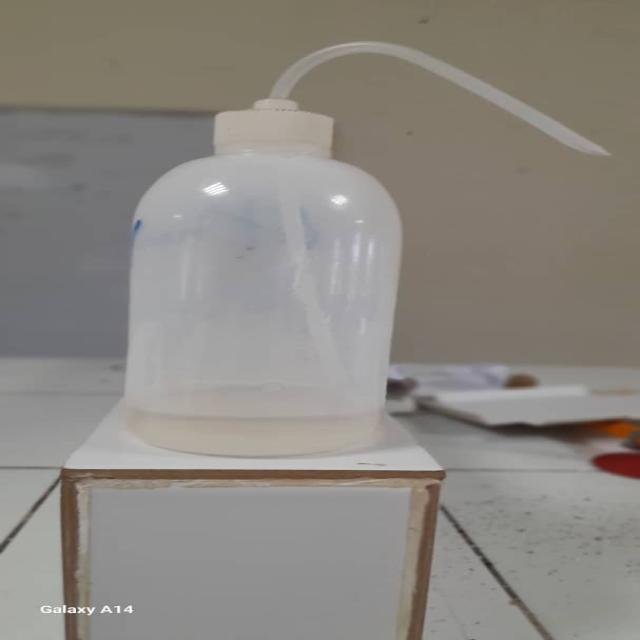Washing Bottle: (107, 27, 606, 454)
